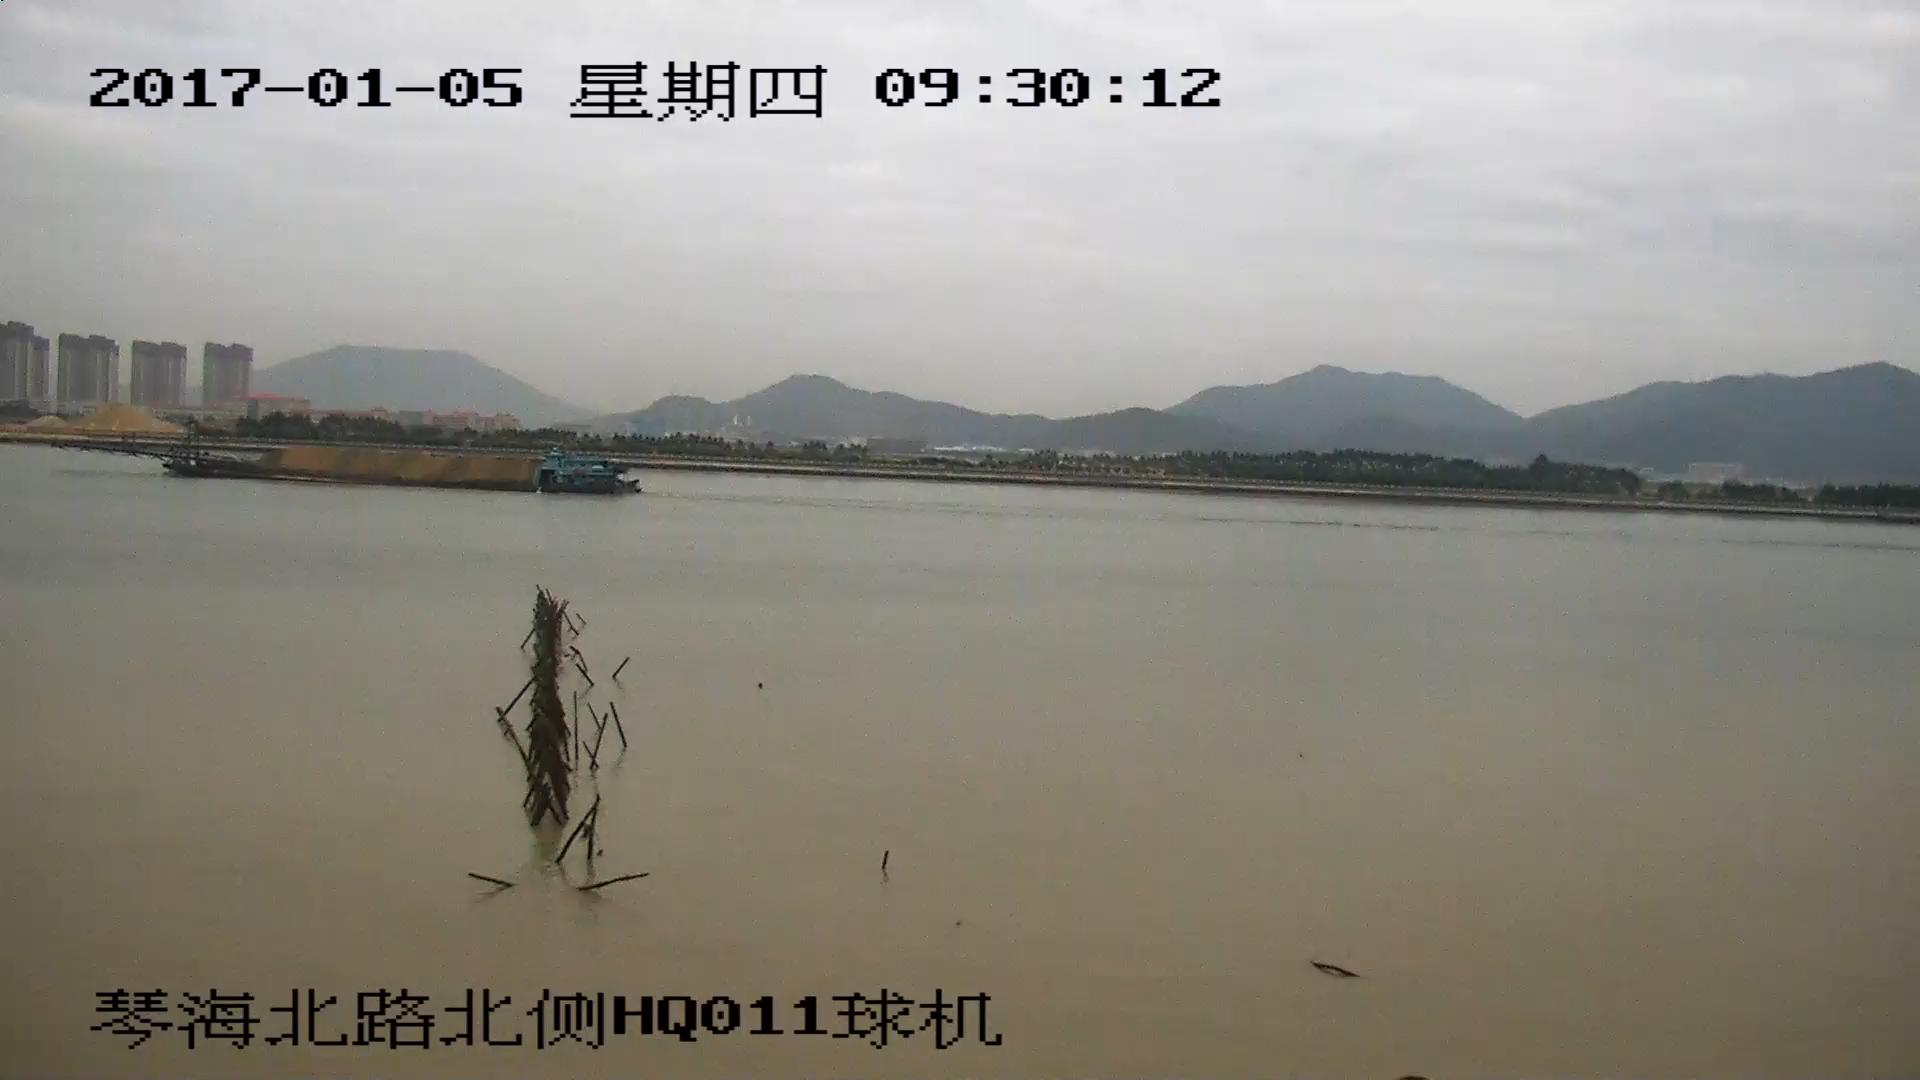ore carrier: (70, 430, 628, 492)
